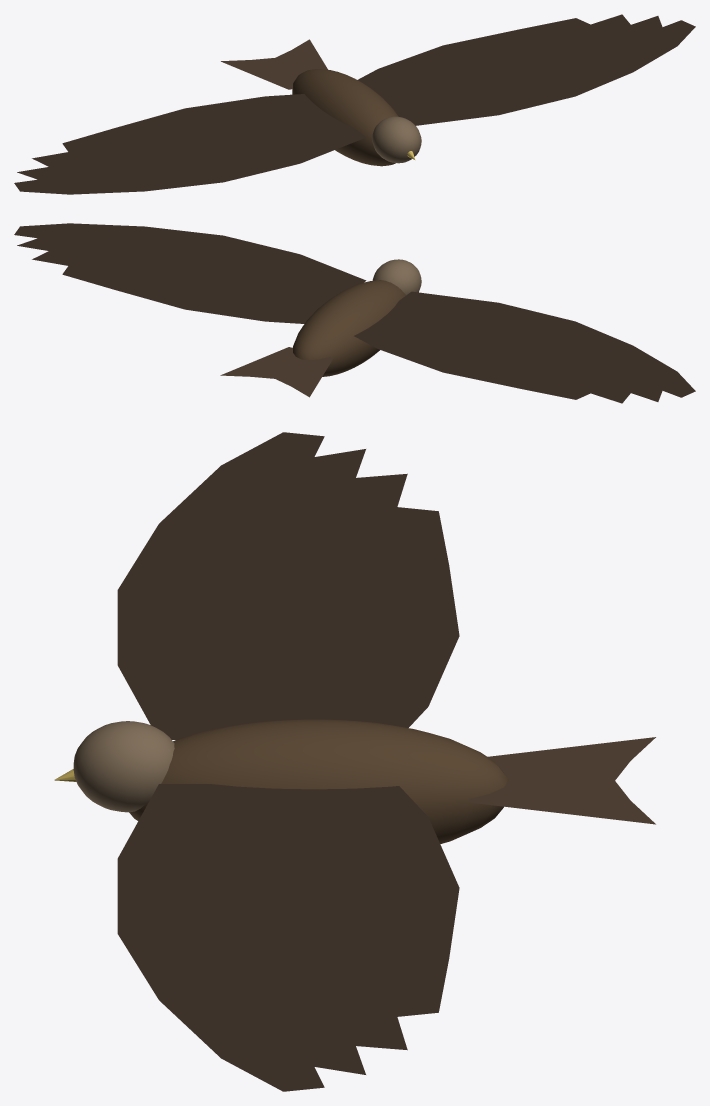
File: bird.glb
The picture shows the model from 3 angles, top to bottom: view 1: azimuth 30°, elevation 25°; view 2: azimuth 150°, elevation 25°; view 3: azimuth 270°, elevation 25°; orthographic projection. The views are drawn at different scales.
Parts seen in each view (by area): view 1: wing-right, wing-left, body, tail, head; view 2: wing-right, wing-left, body, tail, head; view 3: wing-left, wing-right, body, tail, head.
Boxes of the visible parts, x1,y1,x2,y2 form: wing-right: (14, 94, 366, 194); wing-left: (358, 14, 695, 125); body: (292, 69, 398, 166); tail: (221, 39, 327, 89); head: (372, 116, 421, 163); wing-right: (354, 291, 695, 403); wing-left: (14, 223, 366, 323); body: (293, 280, 405, 376); tail: (220, 347, 333, 397); head: (372, 259, 421, 295); wing-left: (117, 784, 459, 1091); wing-right: (117, 432, 459, 739); body: (129, 719, 508, 843); tail: (470, 737, 655, 824); head: (73, 721, 174, 812).
Bounding box in the file's own units: 1.51 × 0.1367 × 0.5818.
